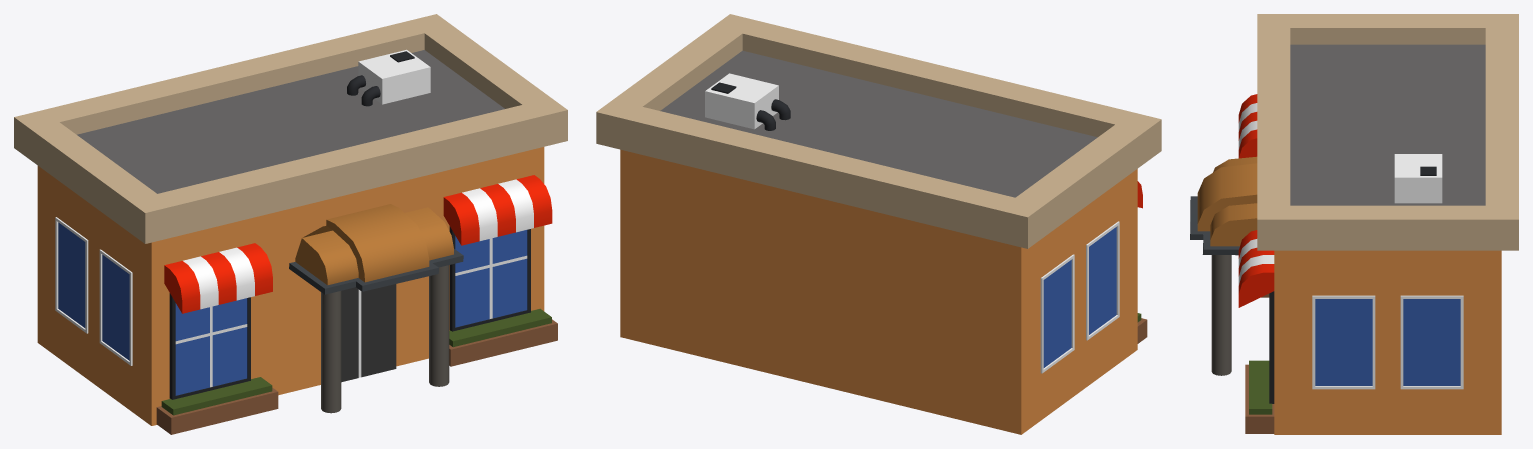
Rendered from Shop_1.fbx.
3 views of the same model, side by side, from view 1: azimuth 30°, elevation 25°; view 2: azimuth 150°, elevation 25°; view 3: azimuth 270°, elevation 25° (orthographic). The views are drawn at different scales.
Visible parts, largest first — view 1: Shop_1; view 2: Shop_1; view 3: Shop_1.
Part boxes in pixels (x1,y1,x2,y2): Shop_1: (14, 14, 567, 434); Shop_1: (596, 14, 1161, 434); Shop_1: (1190, 14, 1518, 434).
Bounding box in the file's own units: 1219 × 645 × 823.
